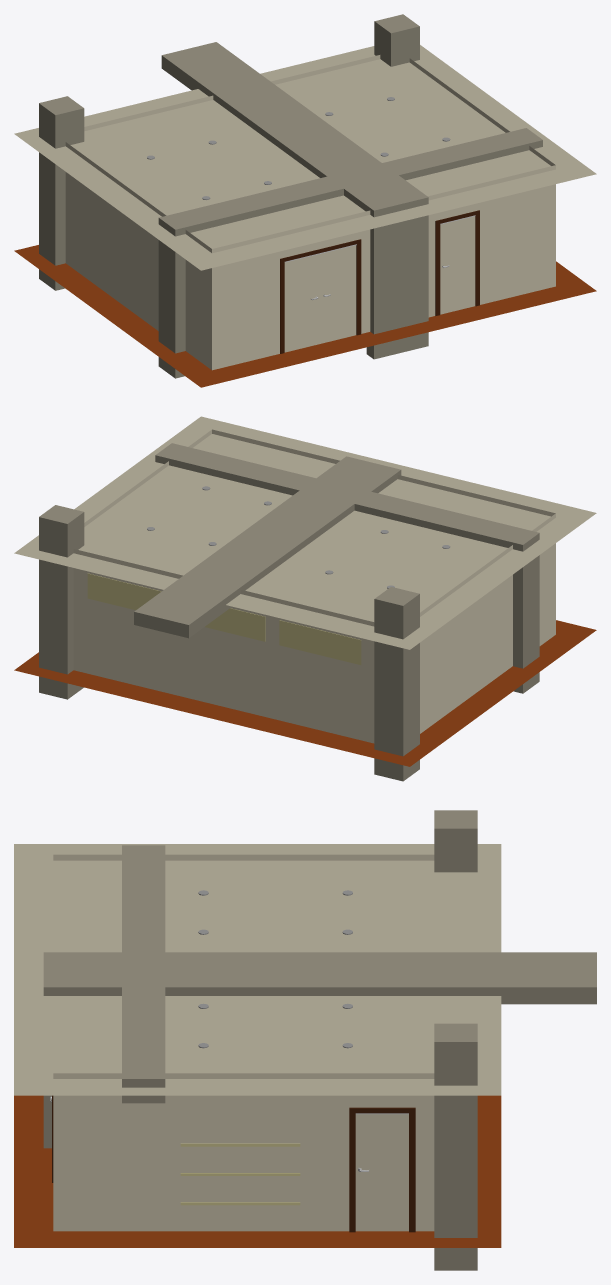
The model's file is Store (not sure of name).fbx.
3 renders of one model, top to bottom at view 1: azimuth 30°, elevation 25°; view 2: azimuth 150°, elevation 25°; view 3: azimuth 270°, elevation 25°, orthographic. The views are drawn at different scales.
Parts seen in each view (by area): view 1: Plane; view 2: Plane; view 3: Plane.
Boxes of the visible parts, <box> form: Plane: <box>14,14,596,387</box>; Plane: <box>14,416,596,781</box>; Plane: <box>14,810,596,1270</box>.
Bounding box in the file's own units: 16.52 × 7 × 16.17.
